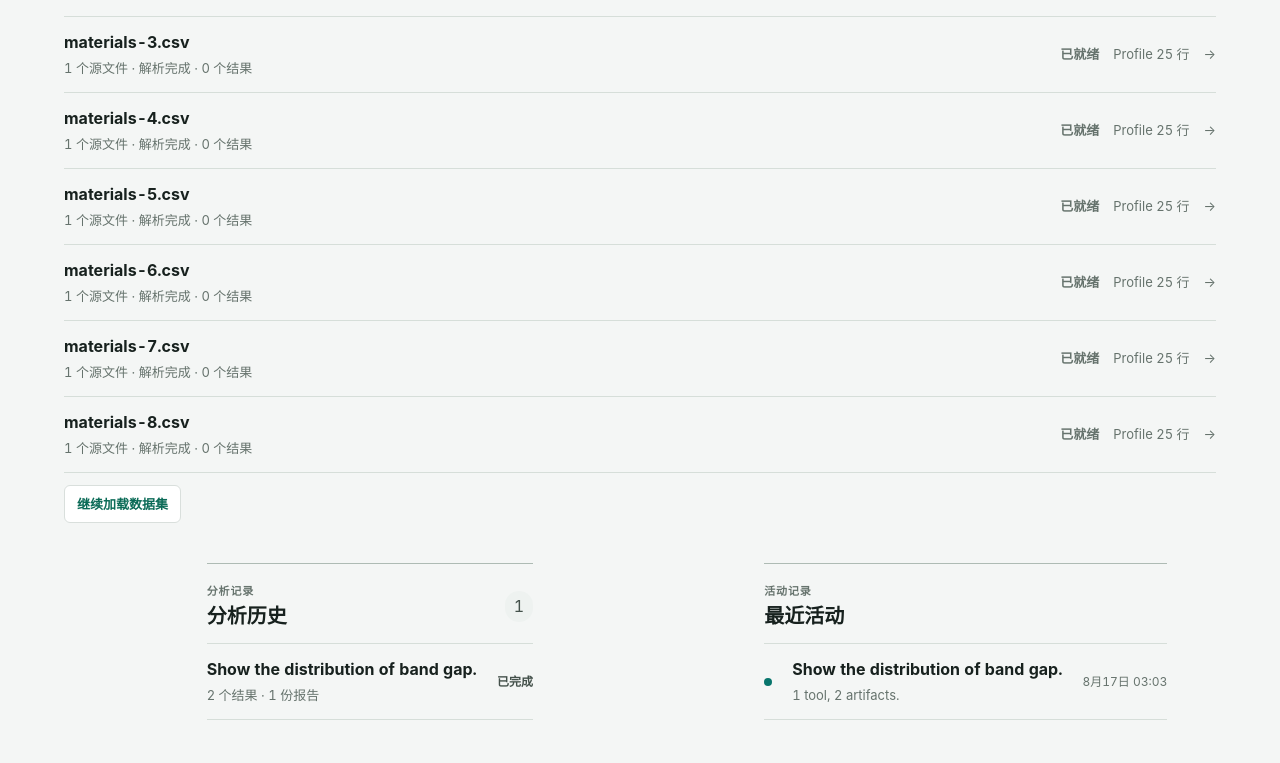
requests bounded history pages and appends a large dataset history deterministically
(page scrolled)
Expected: the text "materials-100.csv" is not shown
Click the button "继续加载数据集". click: (122, 504)
box: top-left (64, 485), bottom-right (181, 523)
(page scrolled)
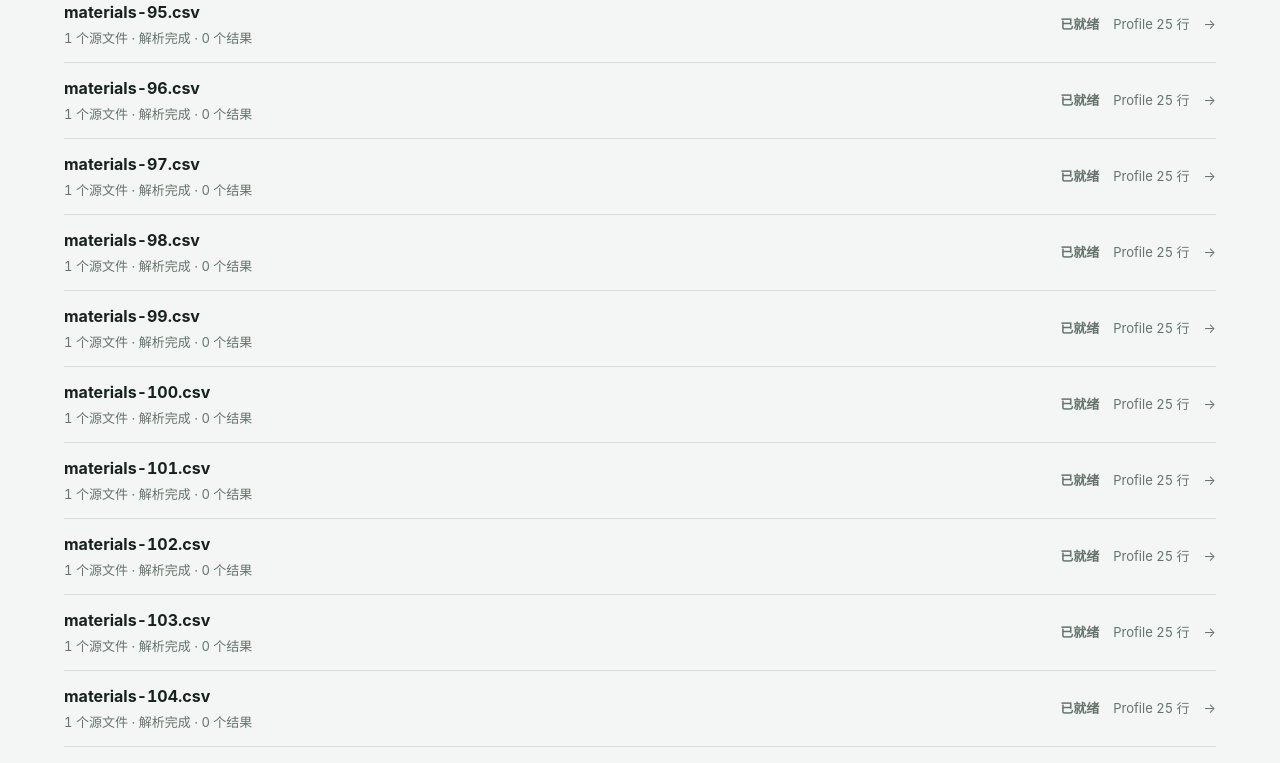
Result: the text "materials-100.csv" is shown at top-left (64, 382), bottom-right (210, 402)
